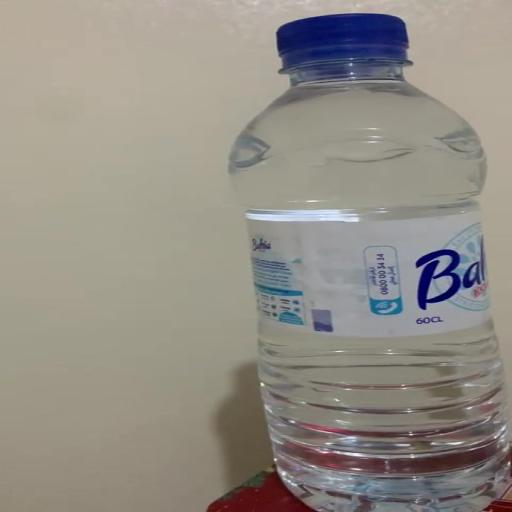bouteille conformite: (199, 7, 512, 512)
